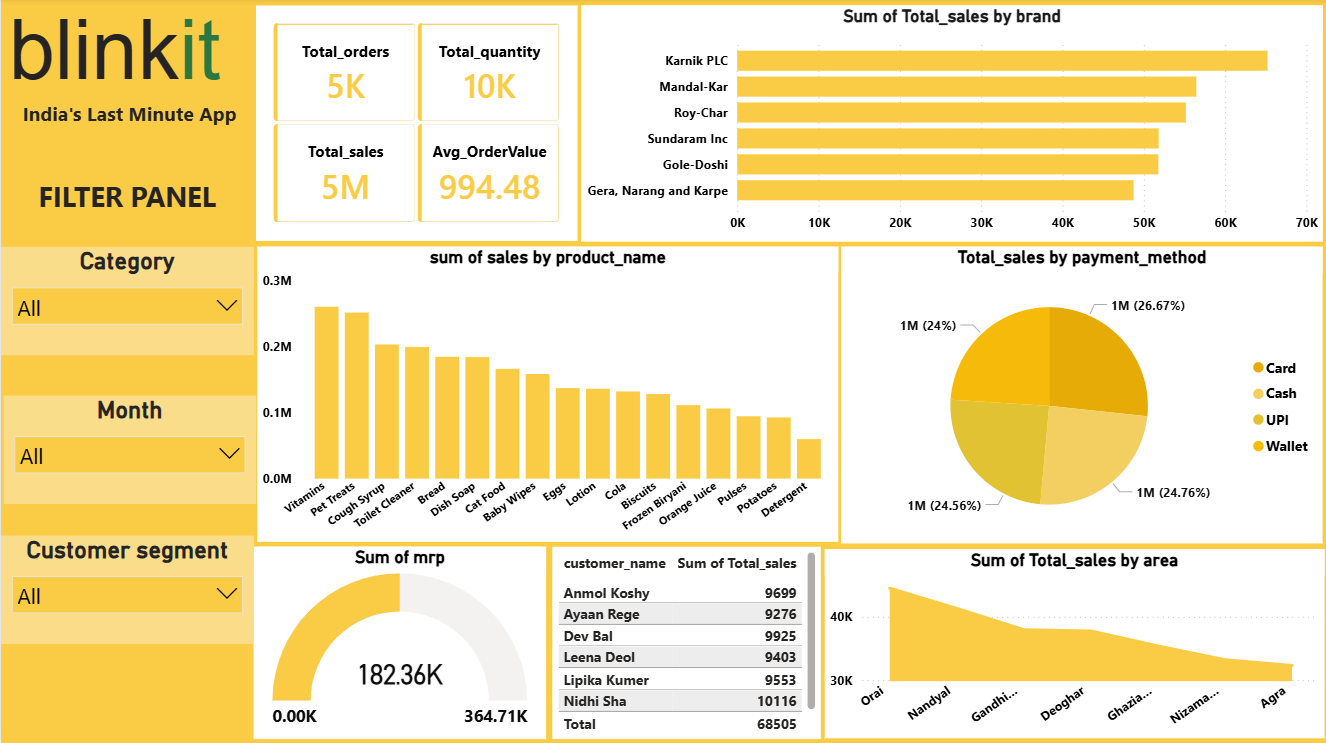

Layout of this report page (visuals, bound fields, positions):
{"tool":"powerbi","page":{"name":"Page 1","canvas":[1280,720],"ordinal":0},"visuals":[{"type":"cardVisual","fields":{"Data":["Messure.Total_orders","Messure.Total_quantity","Messure.Total_sales","Messure.Avg_order_value"]},"box":[246.1,7.2,310.1,226.8],"z":0},{"type":"clusteredColumnChart","title":"sum of sales  by product_name","fields":{"Category":["blinkit_products.product_name"],"Y":["Sum(blinkit_order_items.Total_sales)"]},"box":[247.3,240.1,561,285],"z":1000},{"type":"pieChart","fields":{"Category":["blinkit_orders.payment_method"],"Y":["Messure.Total_sales"]},"box":[811,240.1,465.2,286.8],"z":2000},{"type":"gauge","fields":{"Y":["Sum(blinkit_products.mrp)"]},"box":[244.3,529.7,282.7,185.2],"z":3000},{"type":"tableEx","fields":{"Values":["blinkit_customers.customer_name","Sum(blinkit_order_items.Total_sales)"]},"box":[532.4,529.7,259.3,185.2],"z":4000},{"type":"clusteredBarChart","fields":{"Y":["Sum(blinkit_order_items.Total_sales)"],"Category":["blinkit_products.brand"]},"box":[559.9,6.9,716.3,227.8],"z":5000},{"type":"areaChart","fields":{"Category":["blinkit_customers.area"],"Y":["Sum(blinkit_order_items.Total_sales)"]},"box":[794.5,532.4,482,182.5],"z":6000},{"type":"textbox","box":[2.4,0,243.7,102.5],"z":7000},{"type":"textbox","box":[2.4,94.1,243.7,47.1],"z":8000},{"type":"textbox","box":[0,167.7,243.7,72.4],"z":9000},{"type":"slicer","title":"Category","fields":{"Values":["blinkit_products.category"]},"box":[0,240.1,243.7,105],"z":10000},{"type":"slicer","title":"Month","fields":{"Values":["blinkit_orders.order_date.1.Variation.Date Hierarchy.Month"]},"box":[2.4,383.6,243.7,105],"z":11000},{"type":"slicer","title":"Customer segment","fields":{"Values":["blinkit_customers.customer_segment"]},"box":[0,518.8,243.7,105],"z":12000}]}

Visuals, with their boxes in screenshot pixels (x1, y1, x2, y2), scaled from the page's 1280x720 canvas onto the 1326x743 screenshot:
cardVisual - Messure.Total_orders x Messure.Total_quantity: l=255, t=7, r=576, b=241
"sum of sales  by product_name" clusteredColumnChart: l=256, t=248, r=837, b=542
pieChart - blinkit_orders.payment_method x Messure.Total_sales: l=840, t=248, r=1322, b=544
gauge - Sum(blinkit_products.mrp): l=253, t=547, r=546, b=738
tableEx - blinkit_customers.customer_name x Sum(blinkit_order_items.Total_sales): l=552, t=547, r=820, b=738
clusteredBarChart - Sum(blinkit_order_items.Total_sales) x blinkit_products.brand: l=580, t=7, r=1322, b=242
areaChart - blinkit_customers.area x Sum(blinkit_order_items.Total_sales): l=823, t=549, r=1322, b=738
textbox: l=2, t=0, r=255, b=106
textbox: l=2, t=97, r=255, b=146
textbox: l=0, t=173, r=252, b=248
"Category" slicer: l=0, t=248, r=252, b=356
"Month" slicer: l=2, t=396, r=255, b=504
"Customer segment" slicer: l=0, t=535, r=252, b=644
